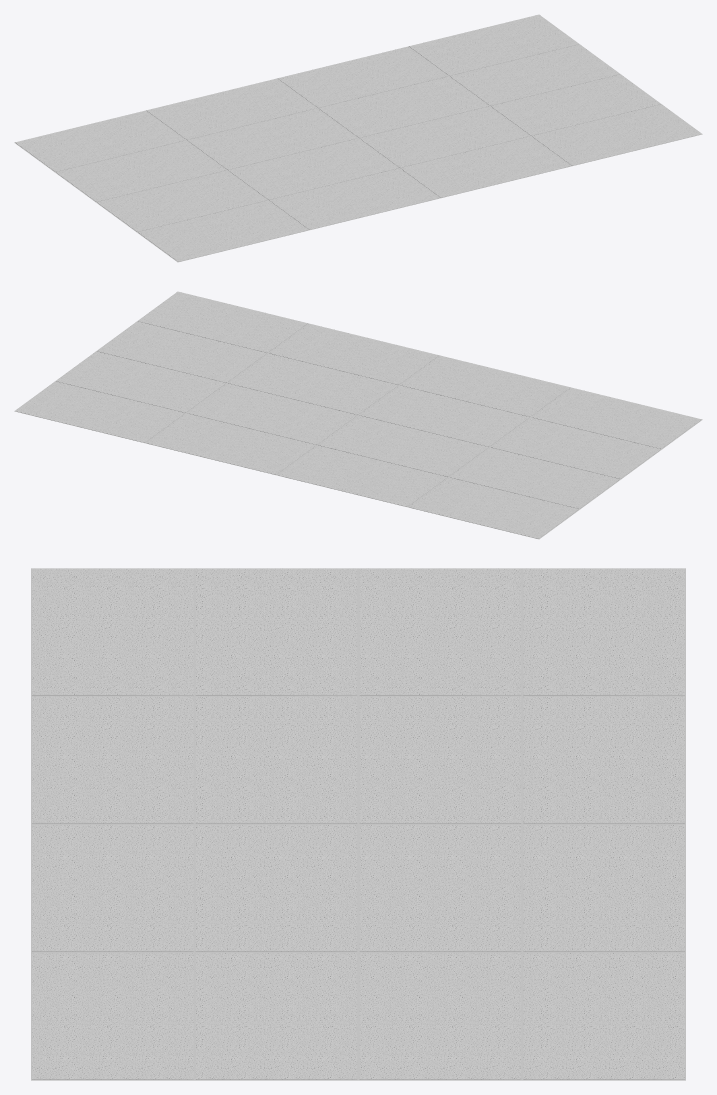
The model's file is core-ceiling.glb.
The picture shows the model from 3 angles, top to bottom: view 1: azimuth 30°, elevation 25°; view 2: azimuth 150°, elevation 25°; view 3: azimuth 270°, elevation 25°; orthographic projection. The views are drawn at different scales.
Visible parts, largest first — view 1: Object_1, Object_0; view 2: Object_1, Object_0; view 3: Object_1, Object_0.
Boxes of the visible parts, bbox=[...] form: Object_1: bbox=[15, 14, 701, 261]; Object_0: bbox=[14, 14, 702, 262]; Object_1: bbox=[15, 291, 701, 538]; Object_0: bbox=[14, 291, 702, 539]; Object_1: bbox=[32, 568, 684, 1079]; Object_0: bbox=[31, 568, 685, 1080].
Size of the model in its own units: 2602 by 1 by 1406.
2 materials, 1 textured.
